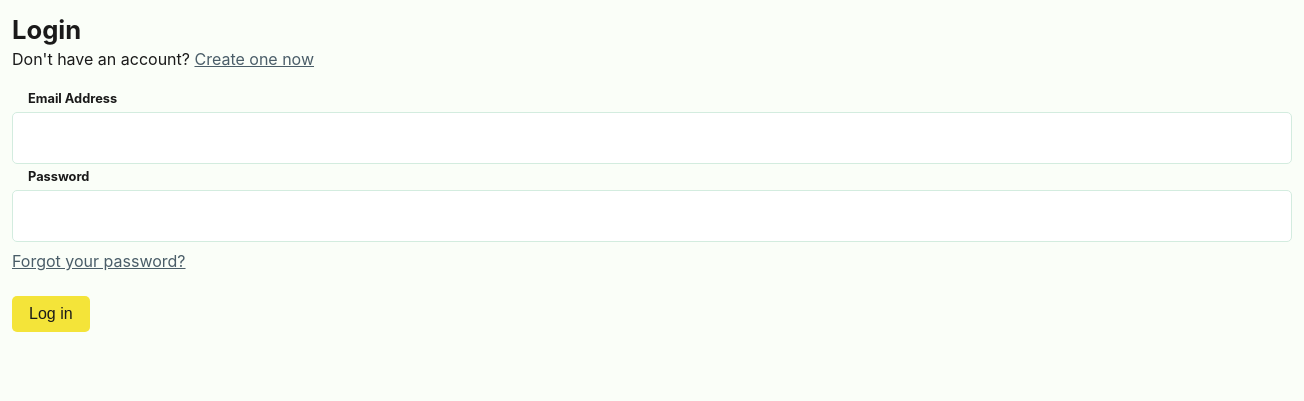
Login form › displays field errors
Click the button "Log in" at (51, 314), box [12,296,90,332]
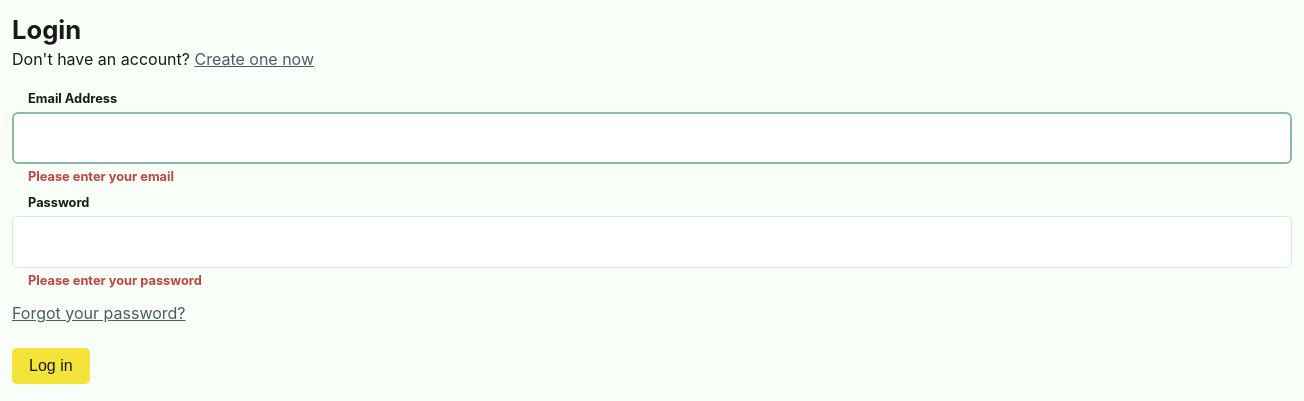
expect the text "Please enter your email" is shown: met, box [28,169,174,184]
expect the text "Please enter your password" is shown: met, box [28,273,202,288]
